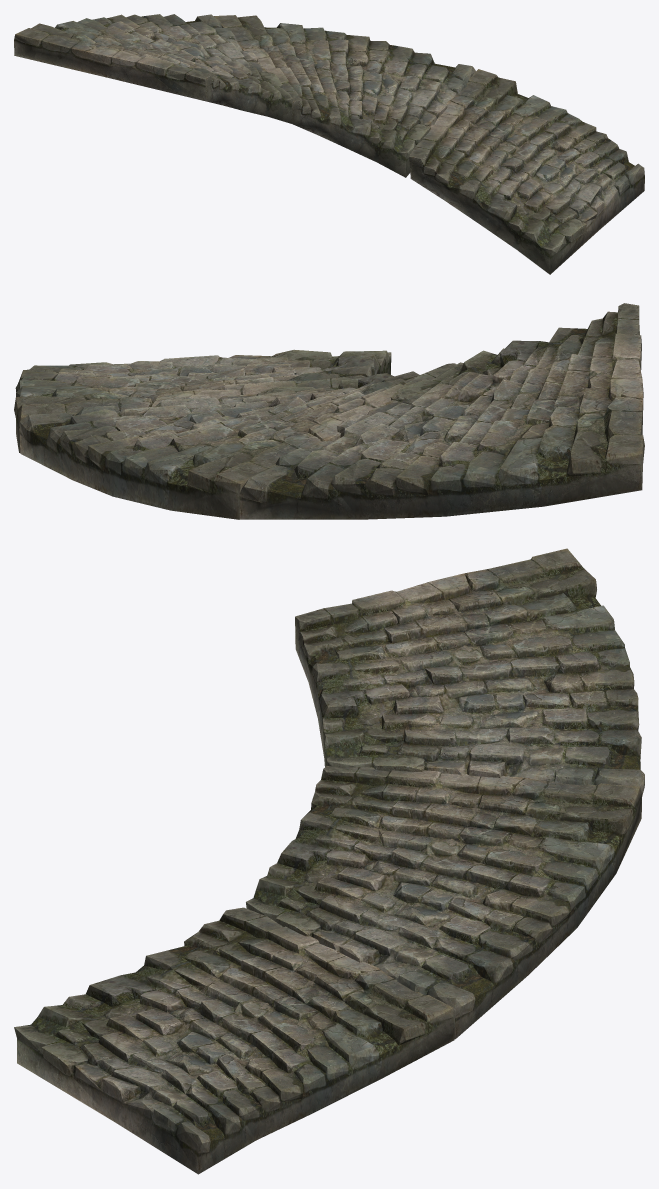
The model's file is bg_anh_gvalley_sf01_02_sm_cwk.FBX.
3 renders of one model, top to bottom at view 1: azimuth 30°, elevation 25°; view 2: azimuth 150°, elevation 25°; view 3: azimuth 270°, elevation 25°, orthographic. The views are drawn at different scales.
Parts seen in each view (by area): view 1: bg_anh_gvalley_sf01_02_sm_cwk; view 2: bg_anh_gvalley_sf01_02_sm_cwk; view 3: bg_anh_gvalley_sf01_02_sm_cwk.
Boxes of the visible parts, x1,y1,x2,y2 form: bg_anh_gvalley_sf01_02_sm_cwk: [14, 14, 644, 274]; bg_anh_gvalley_sf01_02_sm_cwk: [14, 303, 644, 519]; bg_anh_gvalley_sf01_02_sm_cwk: [14, 548, 644, 1174].
Bounding box in the file's own units: 970 × 346 × 725.
